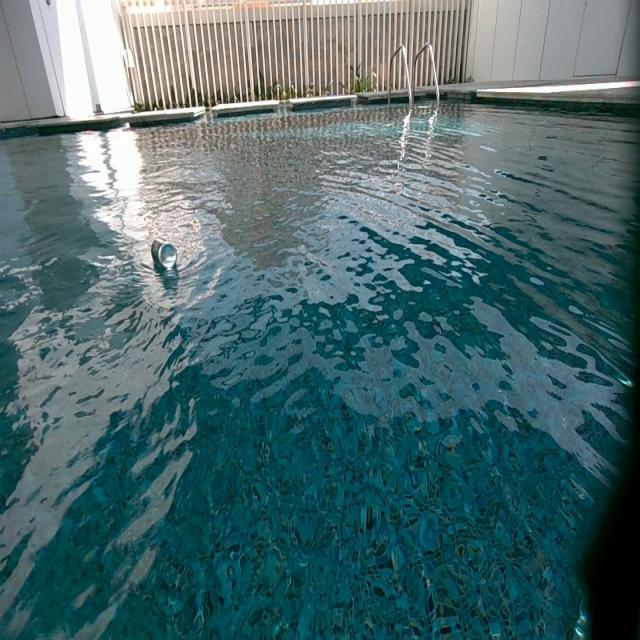Cans: (152, 240, 178, 270)
